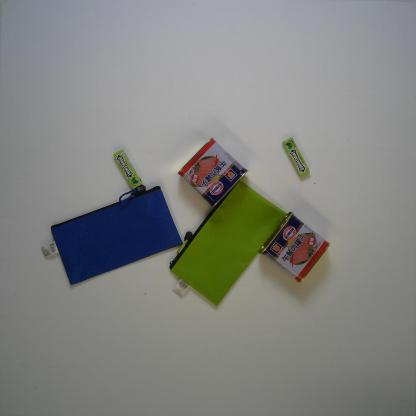Canned Food: (257, 210, 331, 284), (178, 136, 250, 210)
Gum: (112, 147, 143, 191), (282, 136, 312, 178)
Stationery: (167, 178, 290, 308), (40, 184, 182, 288)
